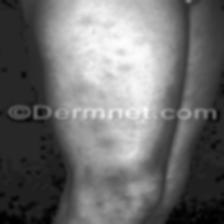Toxin: (73, 122, 146, 218), (72, 14, 148, 96)
